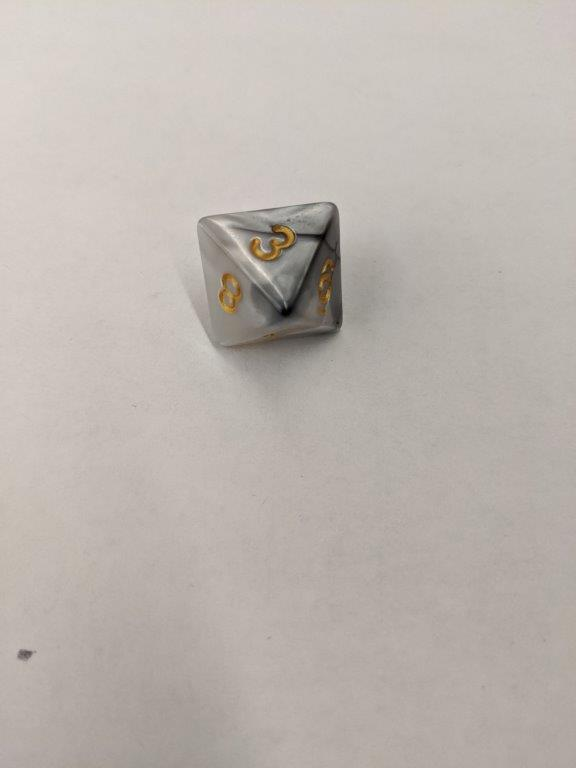d8-3: (197, 201, 344, 345)
